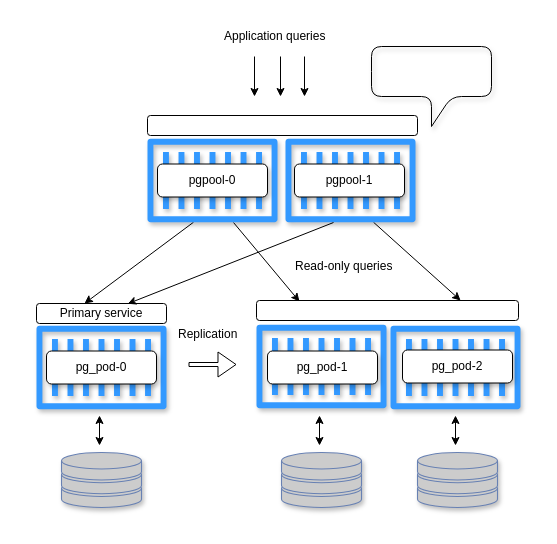
Image size: 557x544. Some labels were removed from this diagram. Here are the shapes that lost their labels. From the top down, the centre of each, then its label:
At (432,88): "Load balancing on pgpool pods".
At (282,125): "pgpool service".
At (387,310): "Read-only service".
